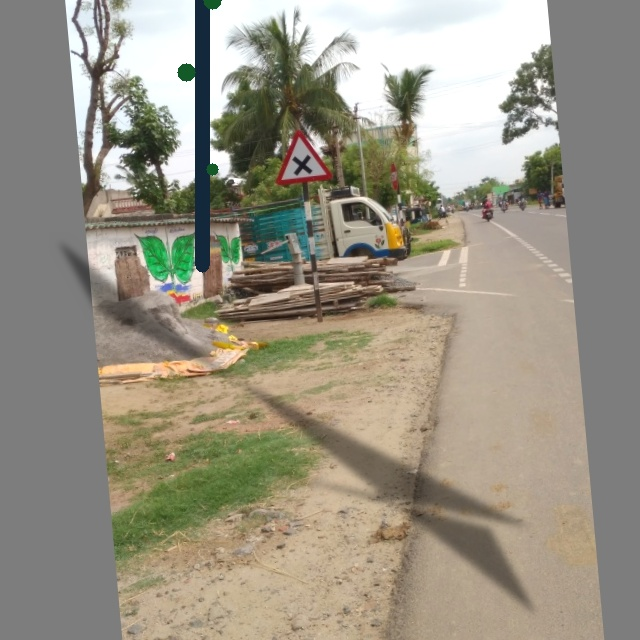Cross_Road: (268, 124, 335, 187)
